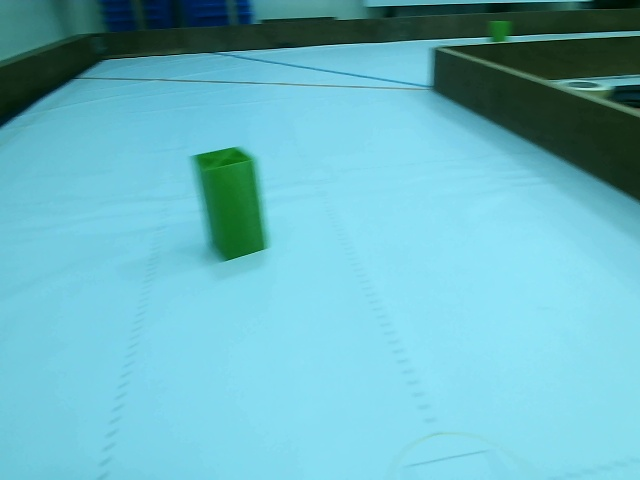green: (198, 154, 263, 251)
